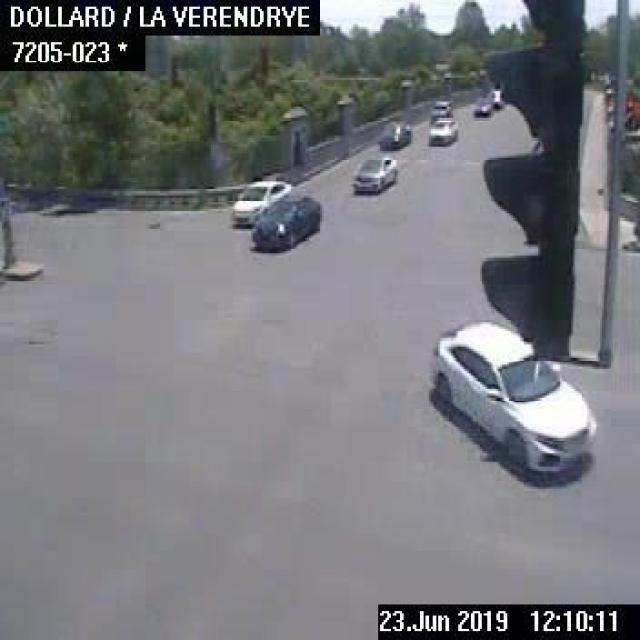vehicle: (427, 316, 600, 480), (252, 193, 319, 252), (230, 175, 290, 229), (349, 152, 399, 193), (373, 118, 415, 152), (426, 118, 456, 146), (426, 96, 452, 122), (471, 96, 492, 118), (488, 89, 506, 110)
